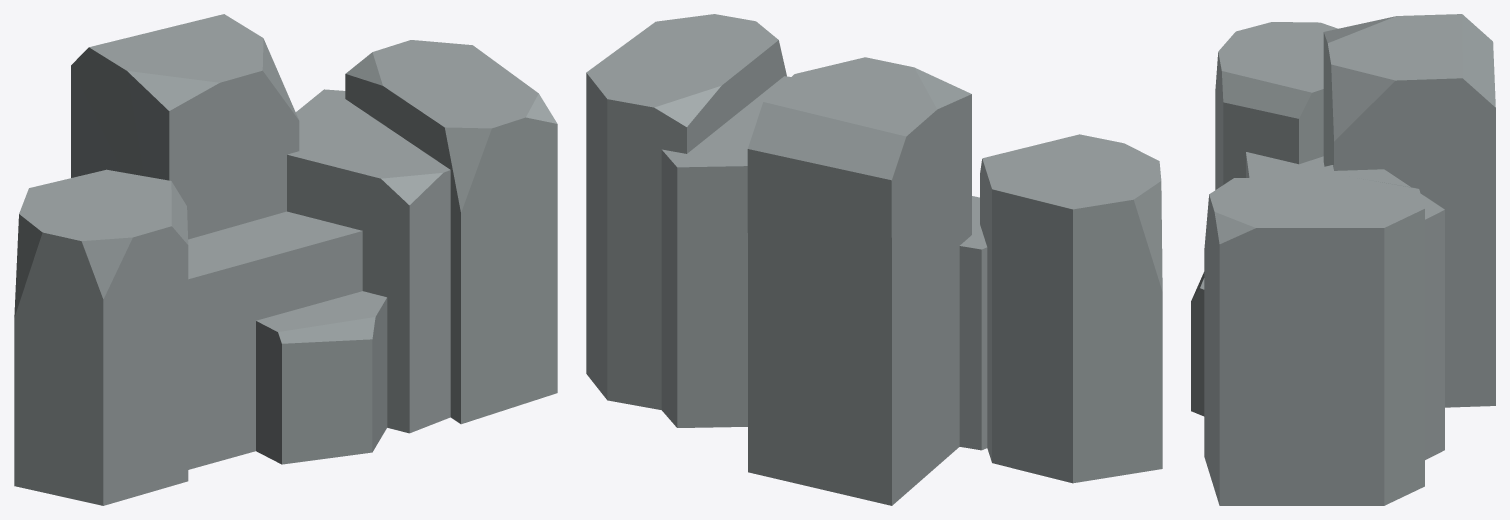
Rendered from NHP_Rock_Wall_B1_01.fbx.
The picture shows the model from 3 angles, left to right: view 1: azimuth 30°, elevation 25°; view 2: azimuth 150°, elevation 25°; view 3: azimuth 270°, elevation 25°; orthographic projection. The views are drawn at different scales.
Visible parts, largest first — view 1: NHP_Rock_Wall_B1_01; view 2: NHP_Rock_Wall_B1_01; view 3: NHP_Rock_Wall_B1_01.
Boxes of the visible parts, x1,y1,x2,y2 form: NHP_Rock_Wall_B1_01: (14, 14, 557, 505); NHP_Rock_Wall_B1_01: (586, 14, 1162, 505); NHP_Rock_Wall_B1_01: (1191, 14, 1495, 505).
Size of the model in its own units: 3.34 by 2.15 by 1.8.
